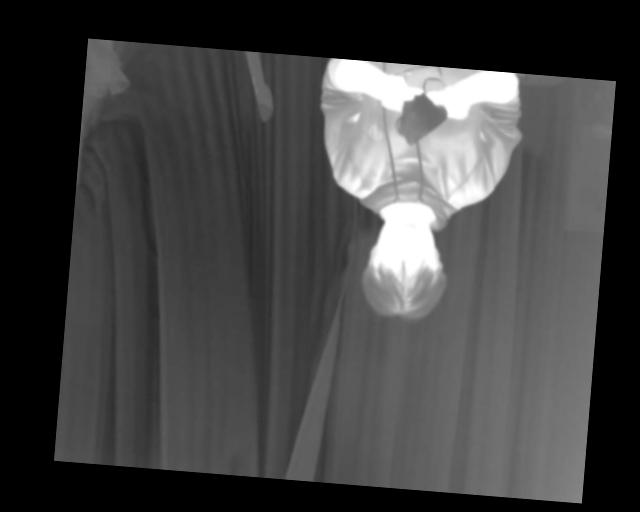face: (360, 208, 447, 321)
